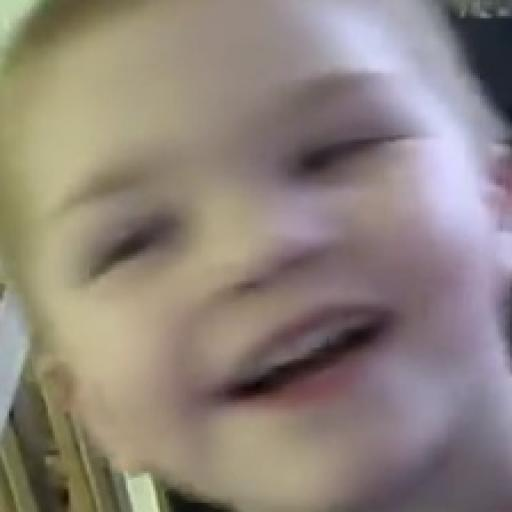Autism: (23, 8, 511, 501)
